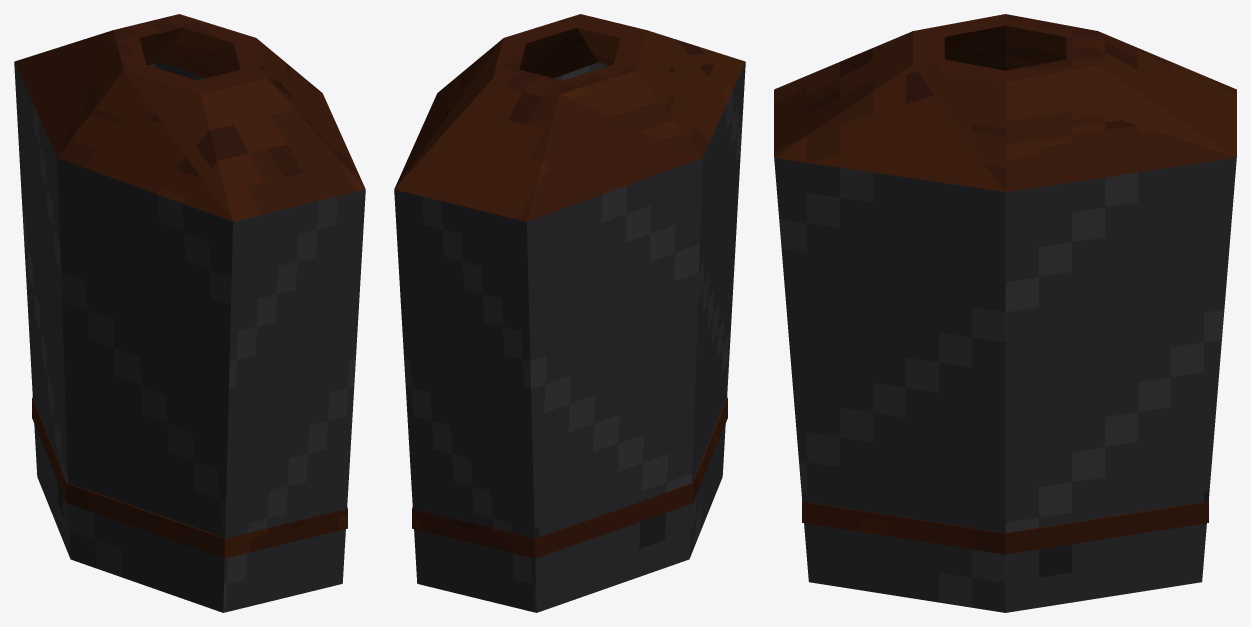
The model's file is escamas_hierro.glb.
3 views of the same model, side by side, from view 1: azimuth 30°, elevation 25°; view 2: azimuth 150°, elevation 25°; view 3: azimuth 270°, elevation 25° (orthographic). The views are drawn at different scales.
Parts seen in each view (by area): view 1: coraza, cuello, hileras; view 2: coraza, cuello, hileras; view 3: coraza, cuello, hileras.
Part boxes in pixels (box(x1,y1,x2,y2)): coraza: box(14, 62, 365, 612); cuello: box(14, 14, 365, 221); hileras: box(32, 397, 347, 558); coraza: box(394, 62, 745, 612); cuello: box(394, 14, 745, 221); hileras: box(412, 397, 727, 558); coraza: box(774, 158, 1236, 612); cuello: box(774, 14, 1236, 191); hileras: box(802, 500, 1208, 554).
Size of the model in its own units: 0.35 by 0.6 by 0.5.
Materials: 1 (1 with a texture image).
